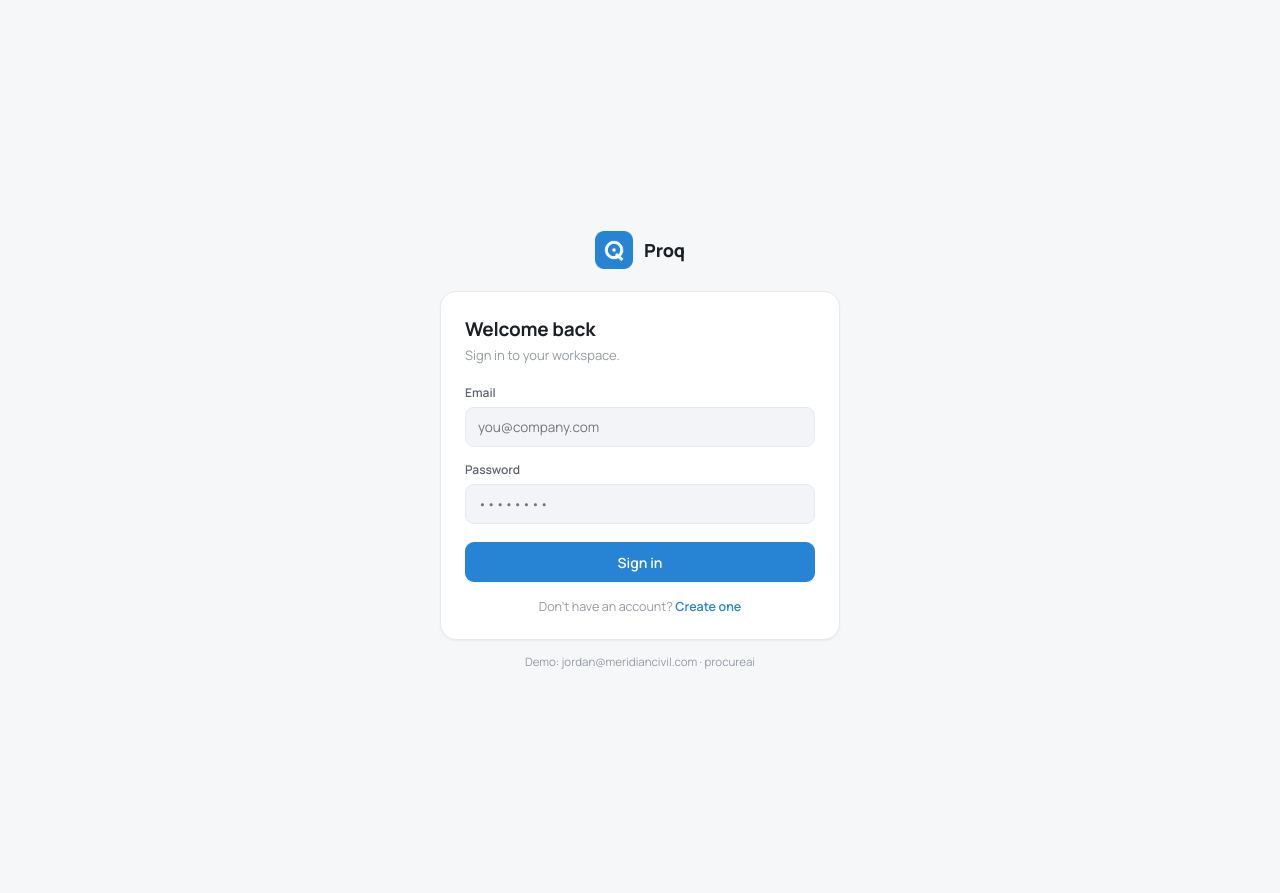
Test case: naming a custom BOM / trade never uses window.prompt › creates a custom BOM from an inline name field
Type "pm@acmebuild.com" into the field with placeholder "you@company.com".
click(640, 427); type("pm@acmebuild.com")  # box [465,407,815,447]
Type "password123" into the password field with placeholder "••••••••".
click(640, 504); type("password123")  # box [465,484,815,524]
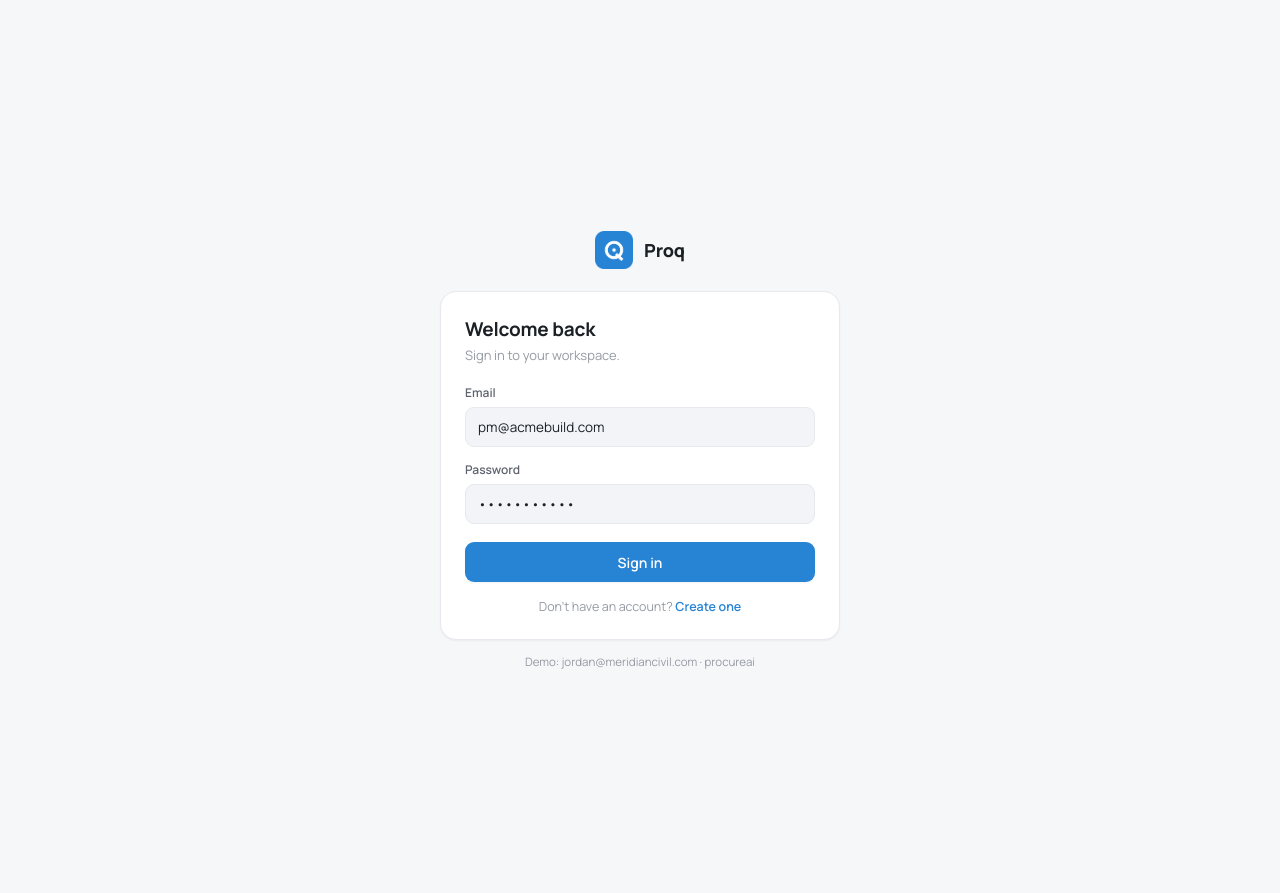
Click the button "Sign in".
click(640, 562)  # box [465,542,815,582]
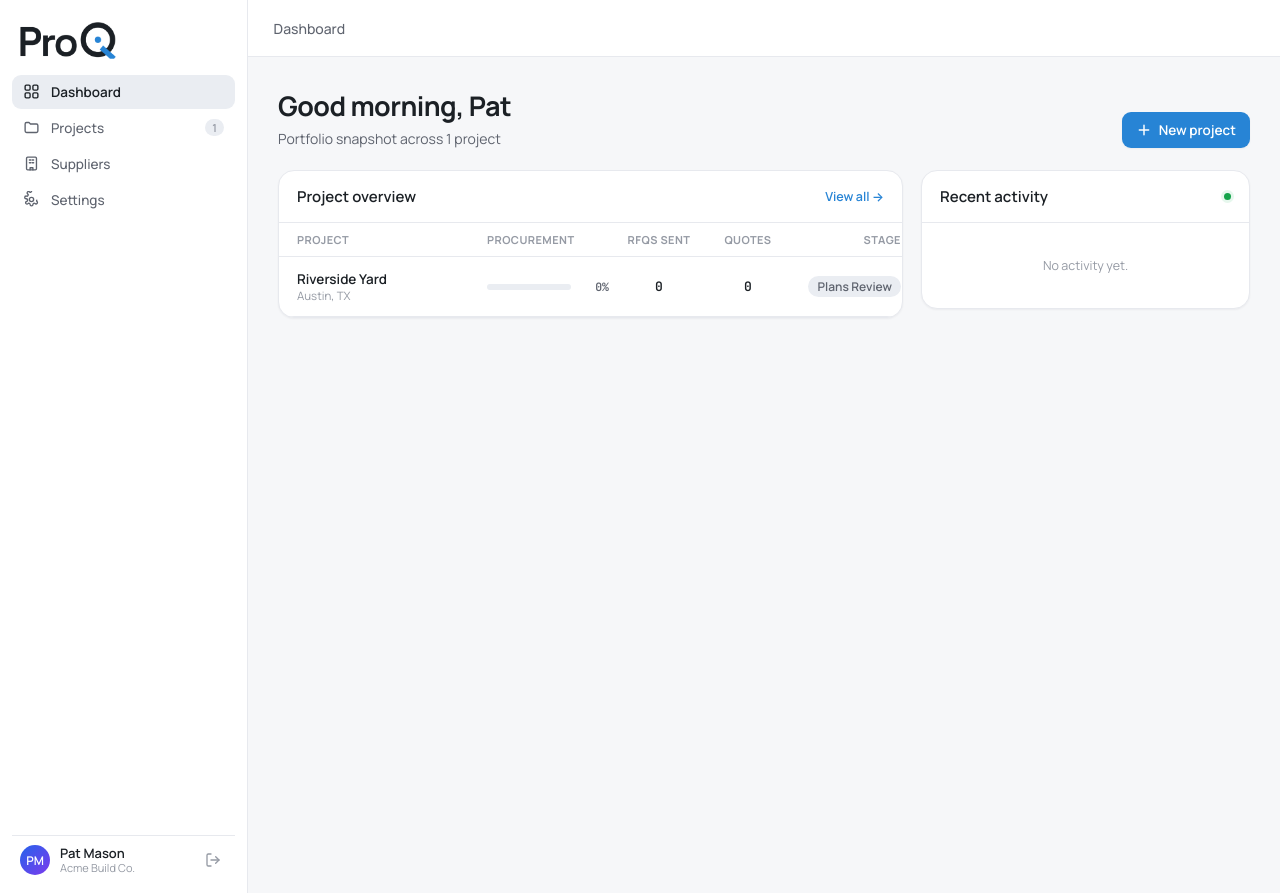
Click the text "Riverside Yard".
click(342, 279)  # box [297,270,387,288]
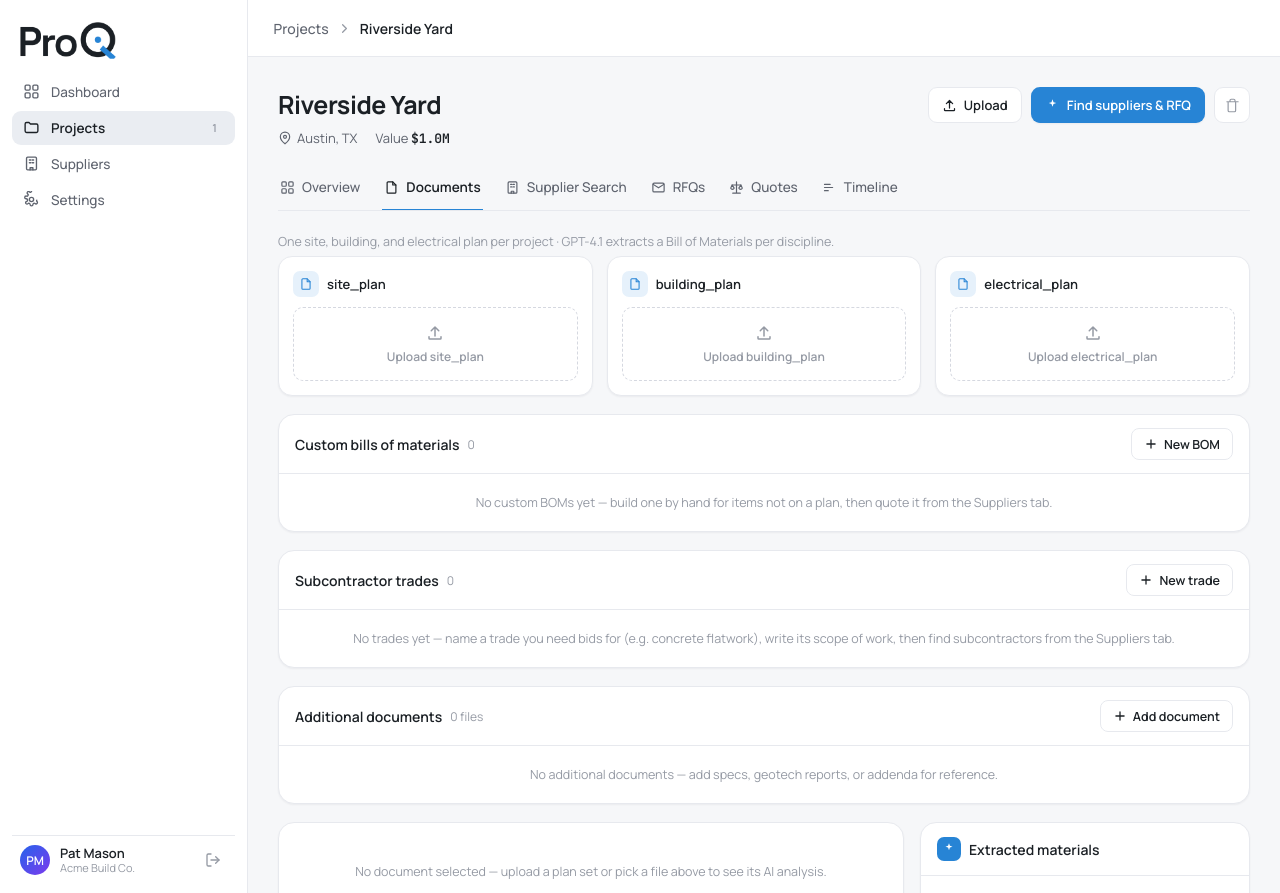
Click the button "New BOM".
click(1182, 444)  # box [1131,428,1233,460]
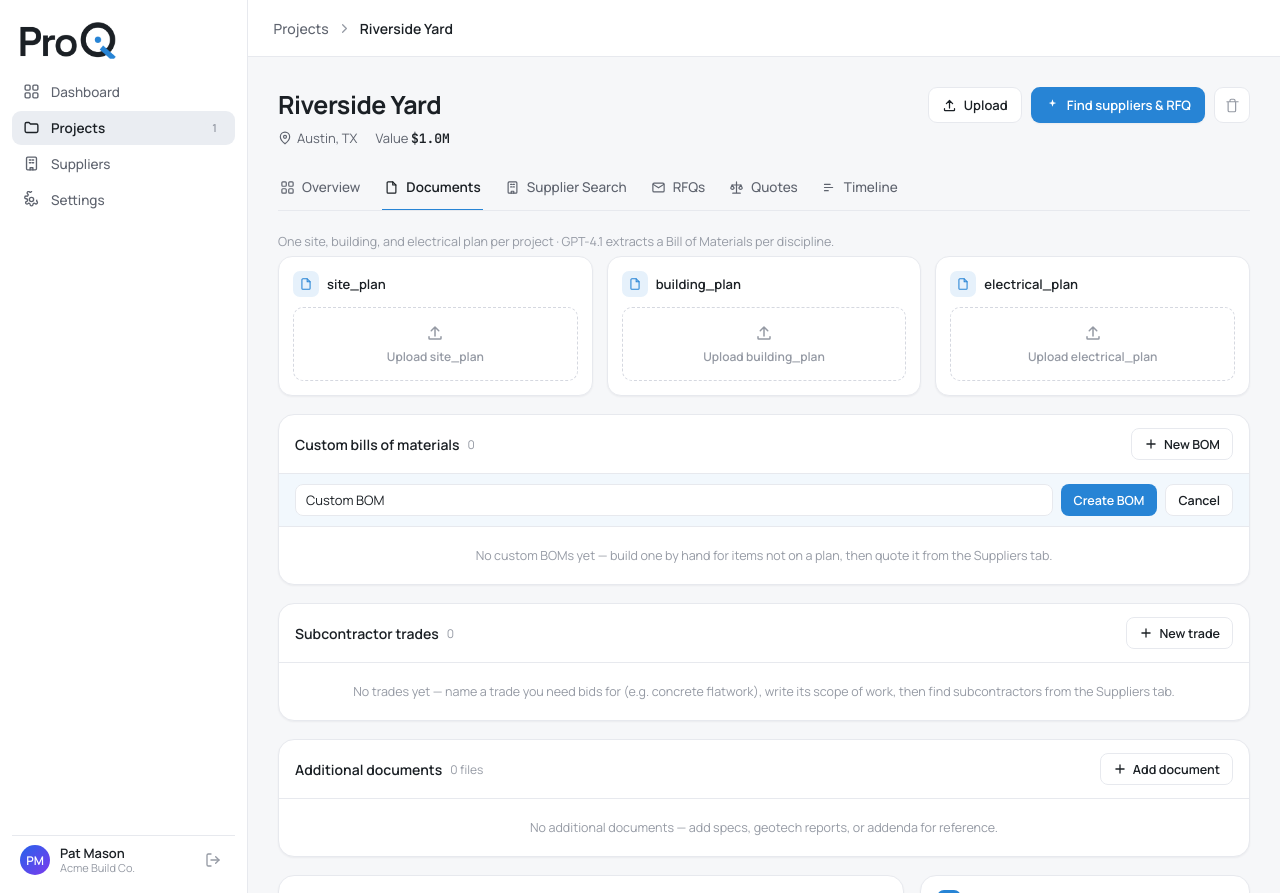
Replace the text in the field with placeholder "Name this bill of materials" with "Yard drainage extras" at (674, 500), box [295,484,1052,516]
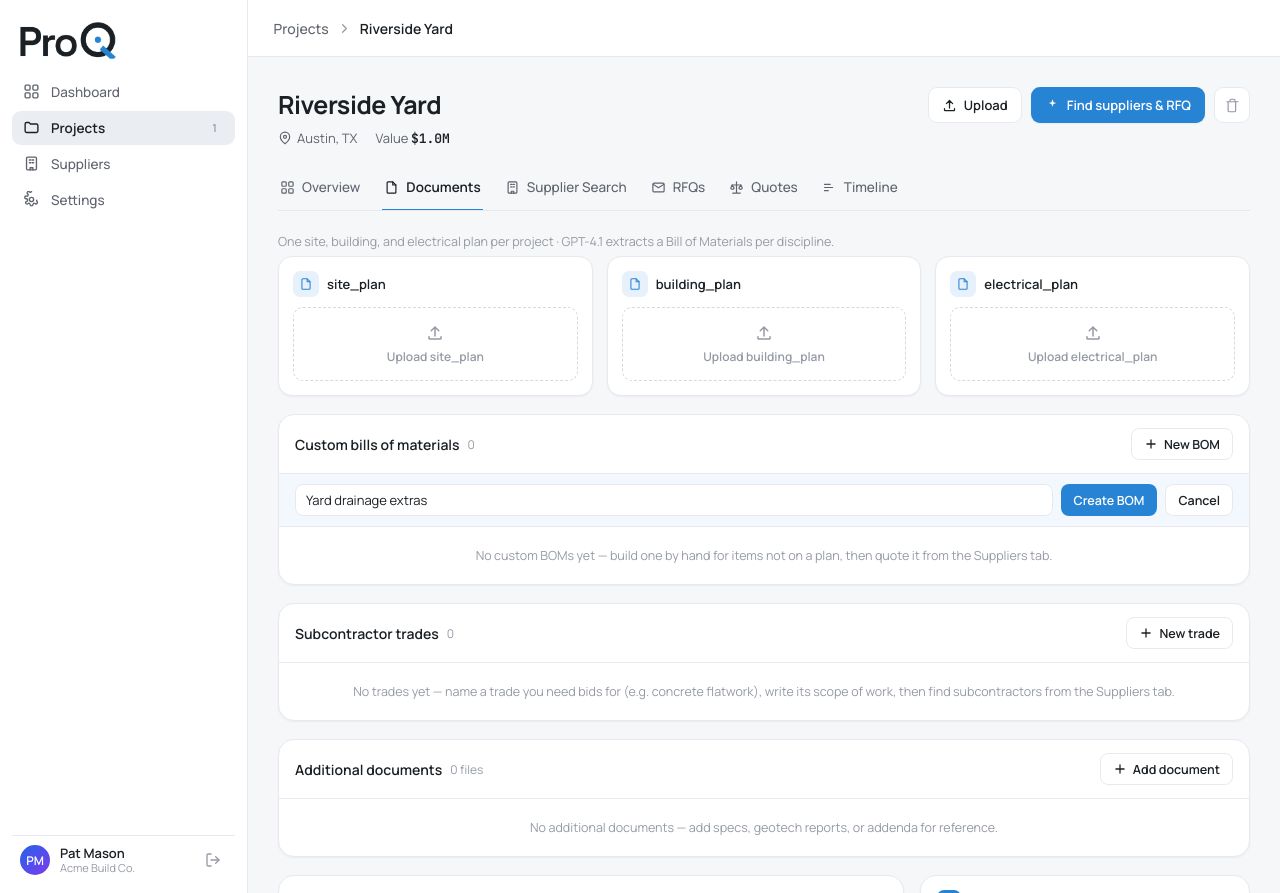
Click the button "Create BOM".
click(1109, 500)  # box [1060,484,1157,516]
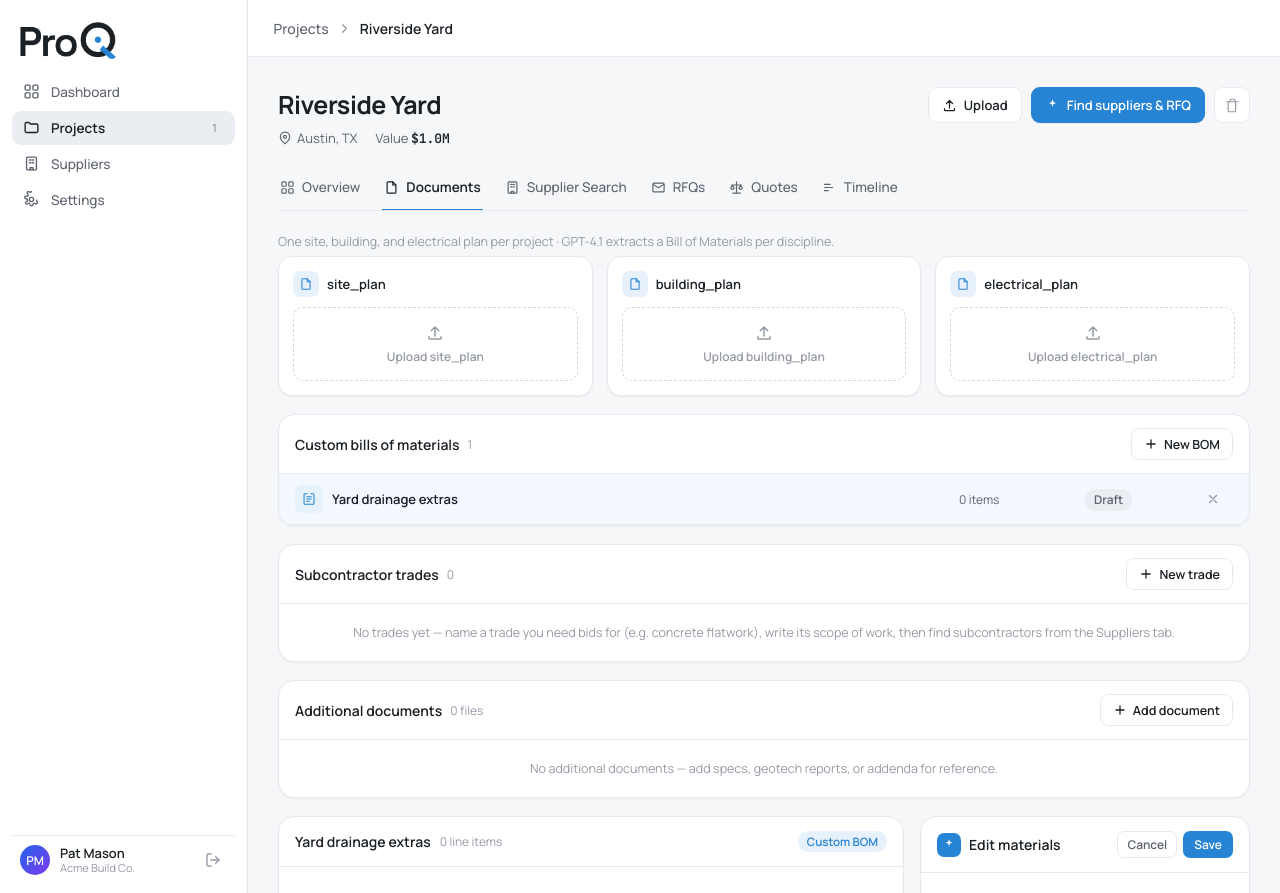
Now the heading "Edit materials" is shown, box [969,835,1061,854]
